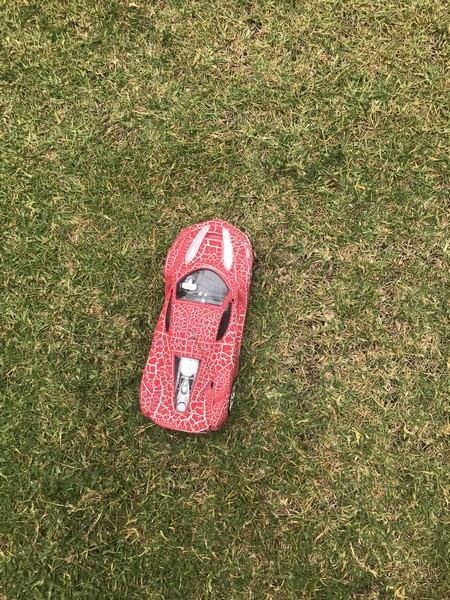RC: (138, 217, 256, 436)
